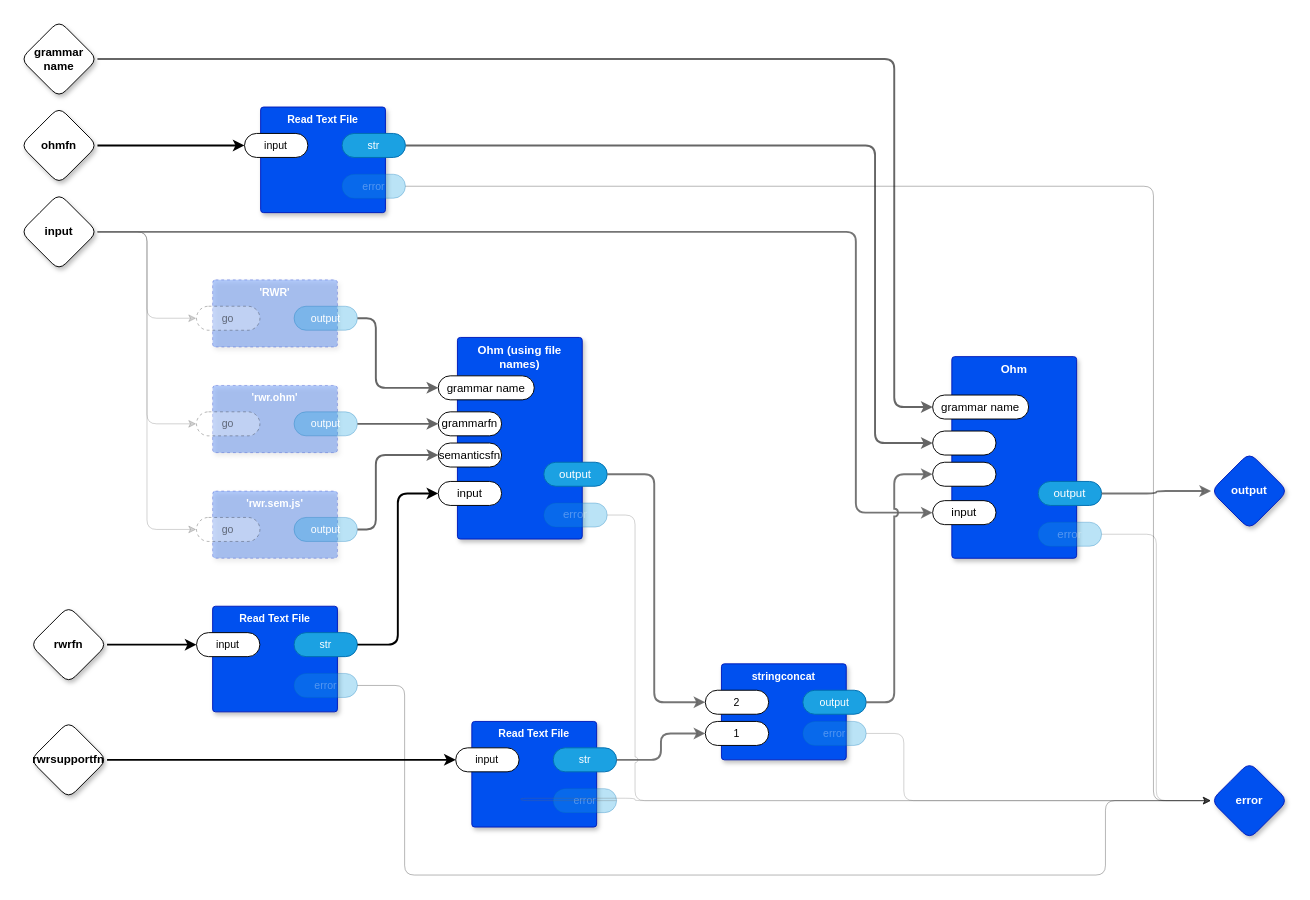
Image size: 1310x900. Some labels were removed from this diagram. Each missing label, with the centre of its shape:
grammar: (964,442)
semantics: (964,473)
